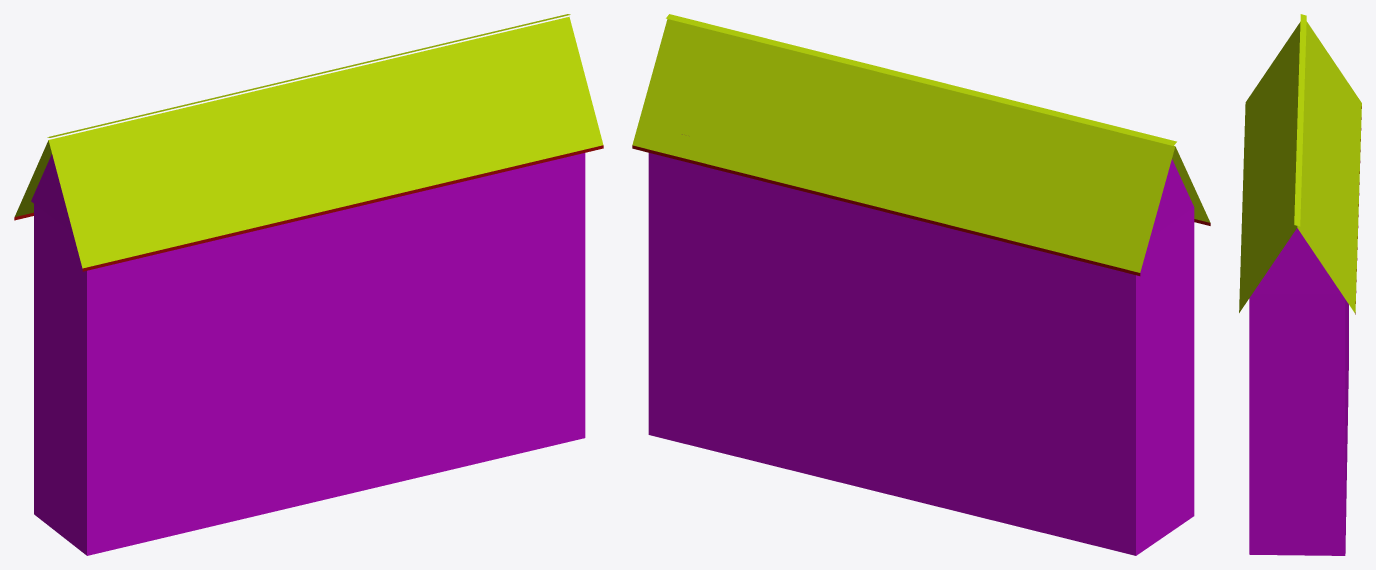
File: bgj_303.glb
3 renders of one model, left to right at view 1: azimuth 30°, elevation 25°; view 2: azimuth 150°, elevation 25°; view 3: azimuth 270°, elevation 25°, orthographic. The views are drawn at different scales.
Parts seen in each view (by area): view 1: bgj_303; view 2: bgj_303; view 3: bgj_303.
Boxes of the visible parts, x1,y1,x2,y2 form: bgj_303: (14, 14, 603, 555); bgj_303: (632, 14, 1210, 555); bgj_303: (1239, 14, 1361, 555).
Size of the model in its own units: 19.8 by 14.61 by 4.86.
